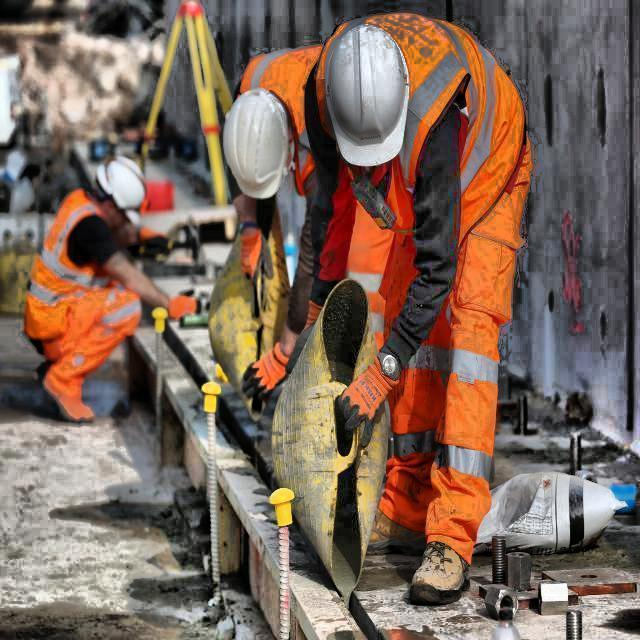safety_helmet: (323, 22, 409, 166), (222, 86, 289, 199), (94, 153, 148, 227)
safety_jacket: (313, 10, 528, 247), (24, 188, 115, 342), (242, 40, 330, 197)
